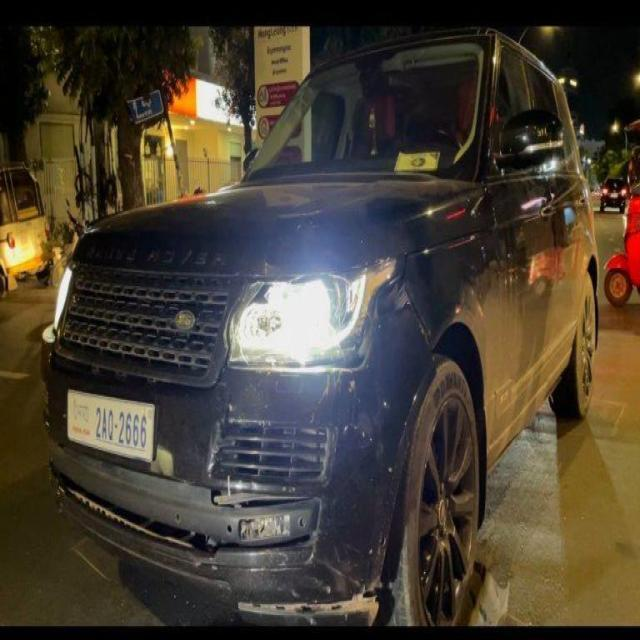Phnom_Penh: (71, 397, 90, 426)
